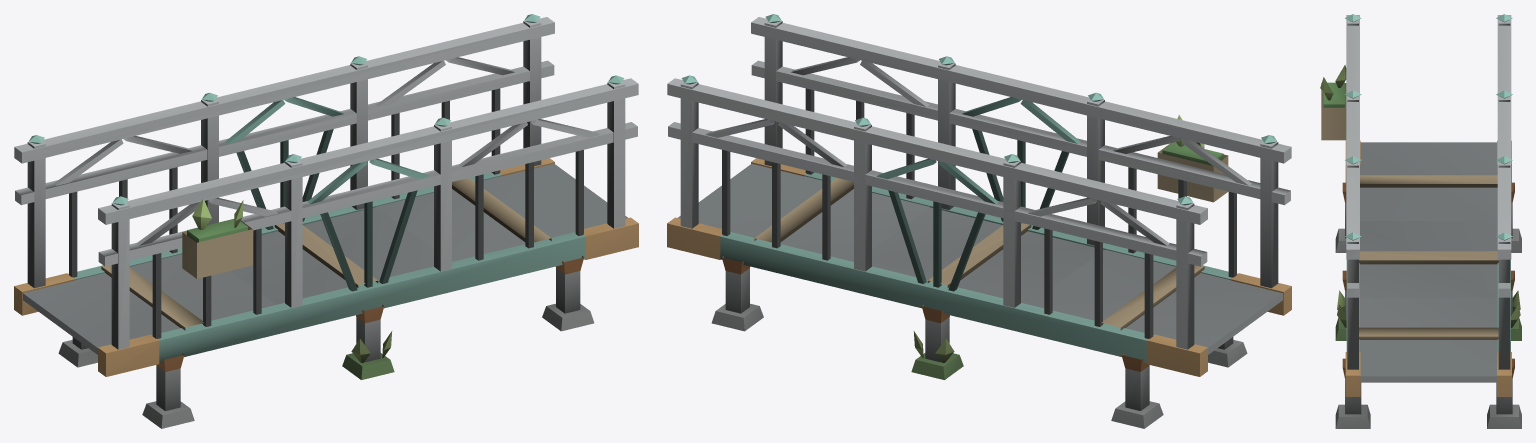
Rendered from catwalk.glb.
3 views of the same model, side by side, from view 1: azimuth 30°, elevation 25°; view 2: azimuth 150°, elevation 25°; view 3: azimuth 270°, elevation 25° (orthographic). The views are drawn at different scales.
Parts seen in each view (by area): view 1: catwalk.001; view 2: catwalk.001; view 3: catwalk.001.
Part boxes in pixels (box(x1,y1,x2,y2)): catwalk.001: box(14, 14, 638, 428); catwalk.001: box(667, 14, 1291, 428); catwalk.001: box(1320, 14, 1521, 428).
Bounding box in the file's own units: 4 × 1.67 × 1.45.
